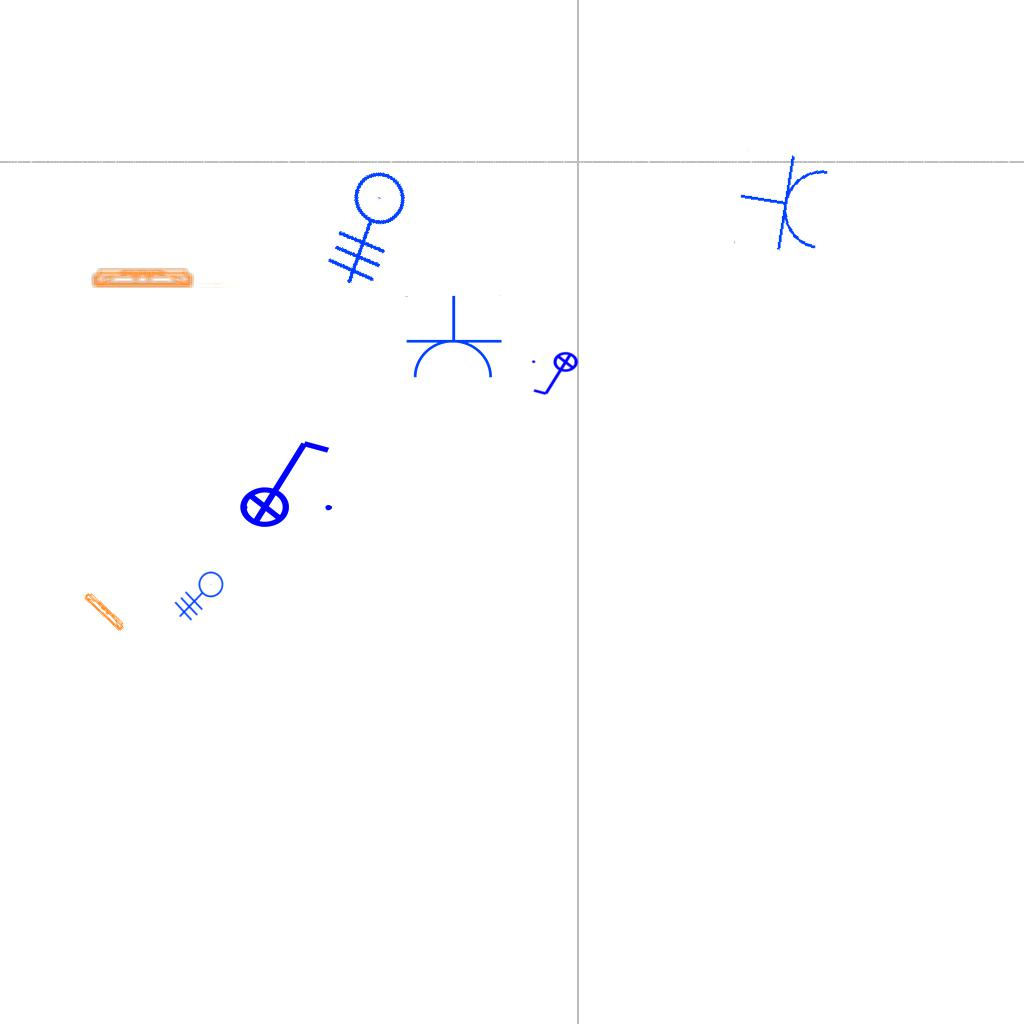Ausschalter_beleuchtet: (226, 433, 338, 529), (529, 351, 585, 399)
Elektroanschluss_allgemein_400V_Geraeteanschlussdose_400V: (301, 156, 453, 307), (174, 571, 232, 627)
Schukosteckdose_einfach: (732, 147, 834, 260), (403, 295, 503, 382)
Sicherheitsleuchte_Wandeinbau: (81, 588, 147, 651), (88, 265, 247, 290)
